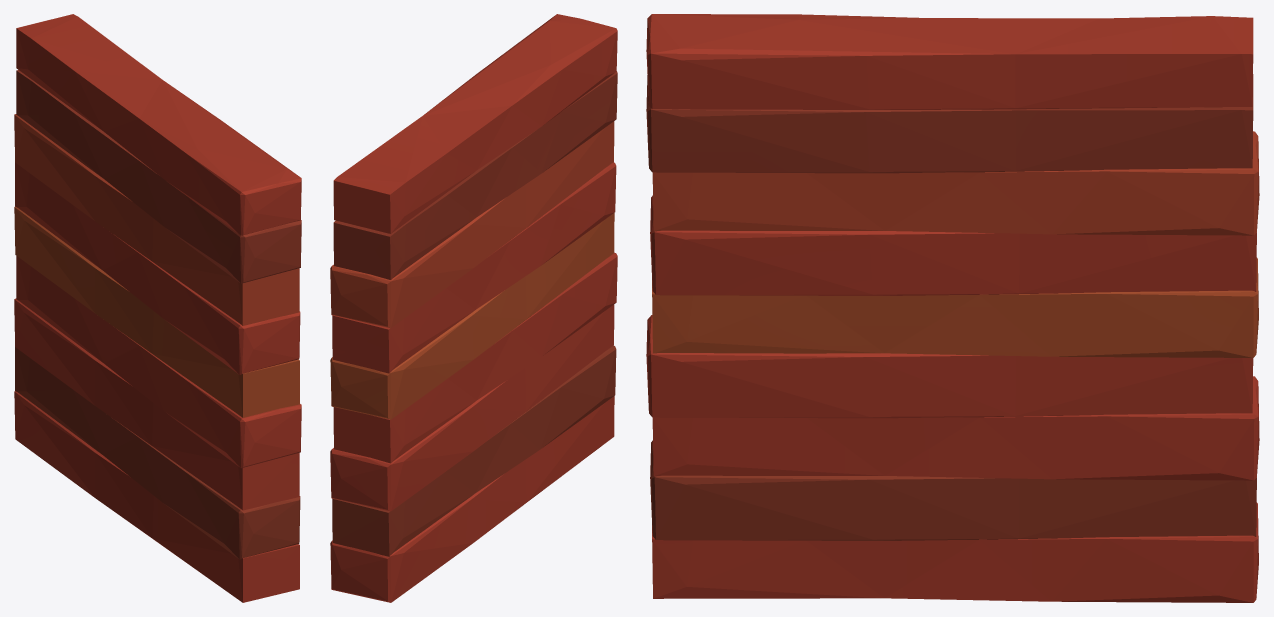
The model's file is Wooden wall.fbx.
3 views of the same model, side by side, from view 1: azimuth 30°, elevation 25°; view 2: azimuth 150°, elevation 25°; view 3: azimuth 270°, elevation 25° (orthographic). The views are drawn at different scales.
Parts seen in each view (by area): view 1: Wooden wall; view 2: Wooden wall; view 3: Wooden wall.
Part boxes in pixels (bbox=[...]): Wooden wall: bbox=[14, 14, 301, 602]; Wooden wall: bbox=[330, 14, 617, 602]; Wooden wall: bbox=[646, 14, 1259, 602].
Bounding box in the file's own units: 0.4874 × 3.02 × 3.03.
